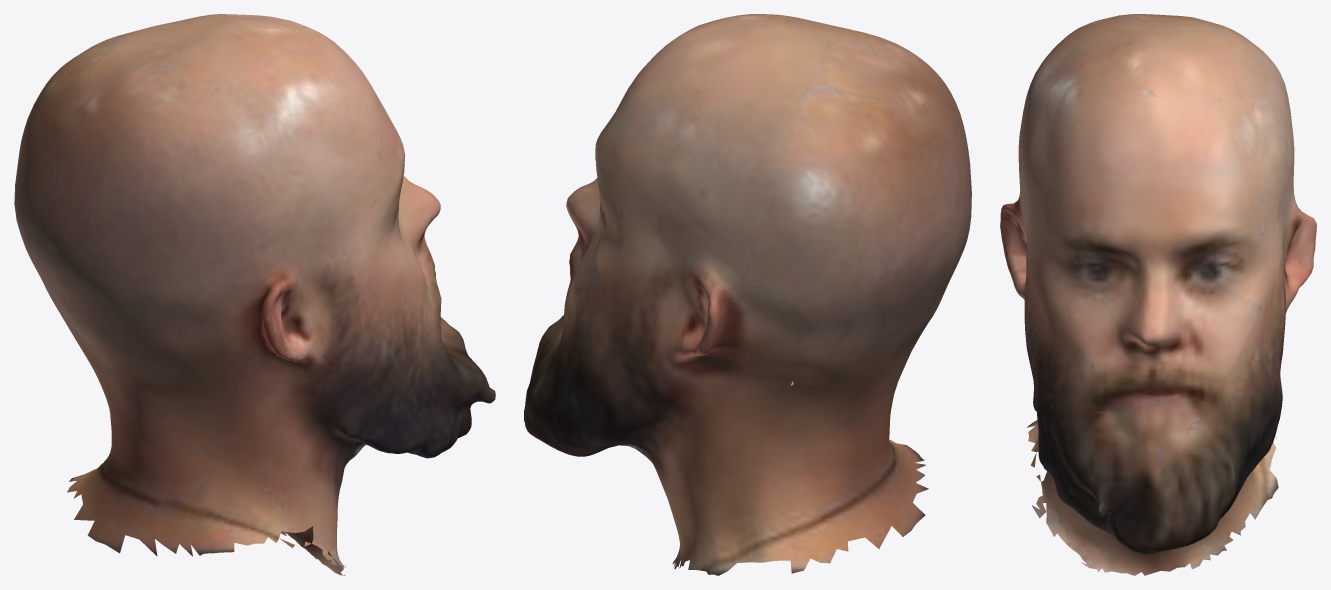
Rendered from David.glb.
3 views of the same model, side by side, from view 1: azimuth 30°, elevation 25°; view 2: azimuth 150°, elevation 25°; view 3: azimuth 270°, elevation 25° (orthographic). The views are drawn at different scales.
Parts seen in each view (by area): view 1: eyeline; view 2: eyeline; view 3: eyeline.
Part boxes in pixels (x1,y1,x2,y2): eyeline: (14,14,495,575); eyeline: (524,14,971,575); eyeline: (1000,14,1316,575).
Bounding box in the file's own units: 0.23 × 0.2848 × 0.1647.
2 materials, 1 textured.
